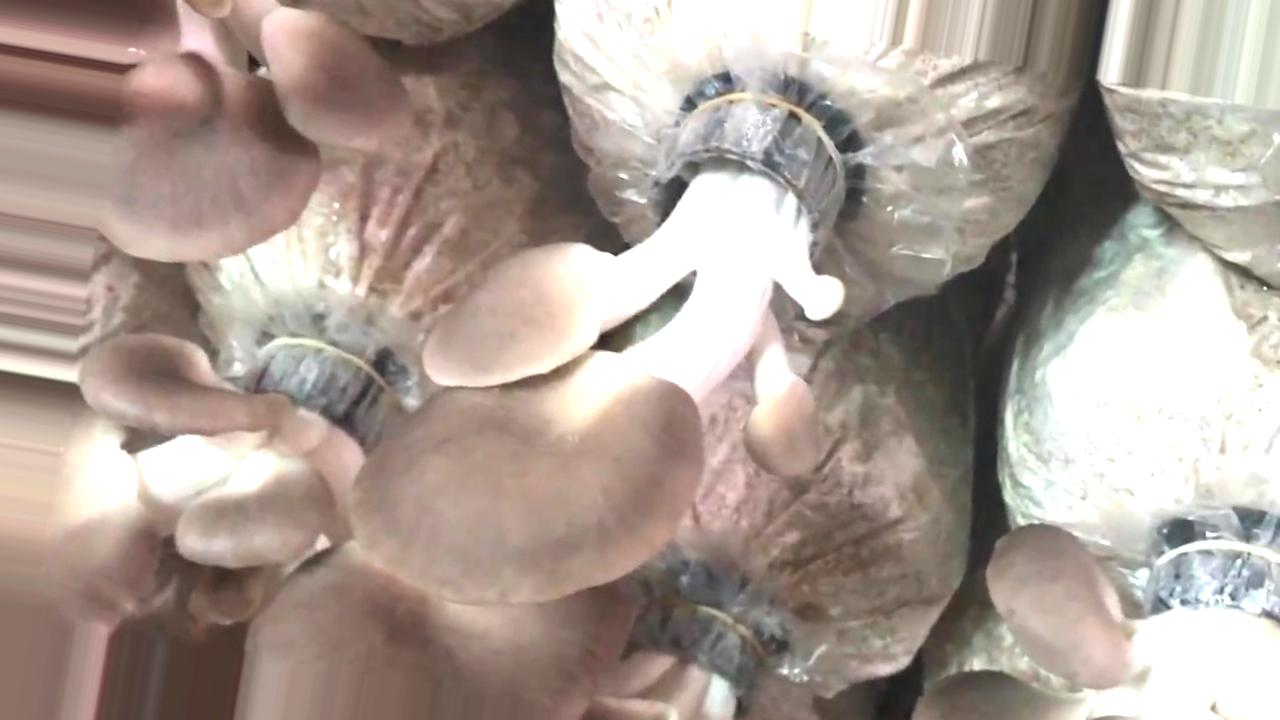nam: (355, 99, 856, 605), (1, 331, 636, 717), (1, 5, 410, 267), (910, 517, 1280, 719)
